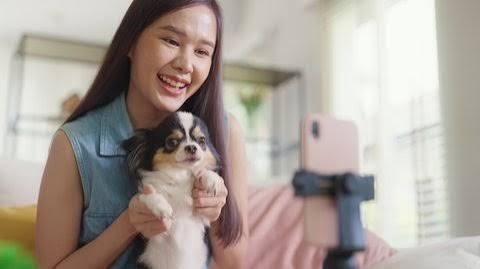adult_dog: (120, 113, 223, 269)
non-dog: (33, 0, 250, 269)
